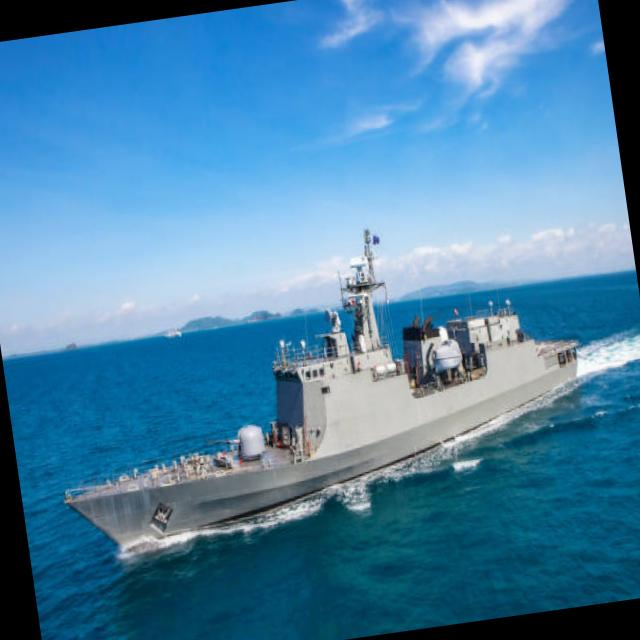Military: (63, 229, 580, 560)
